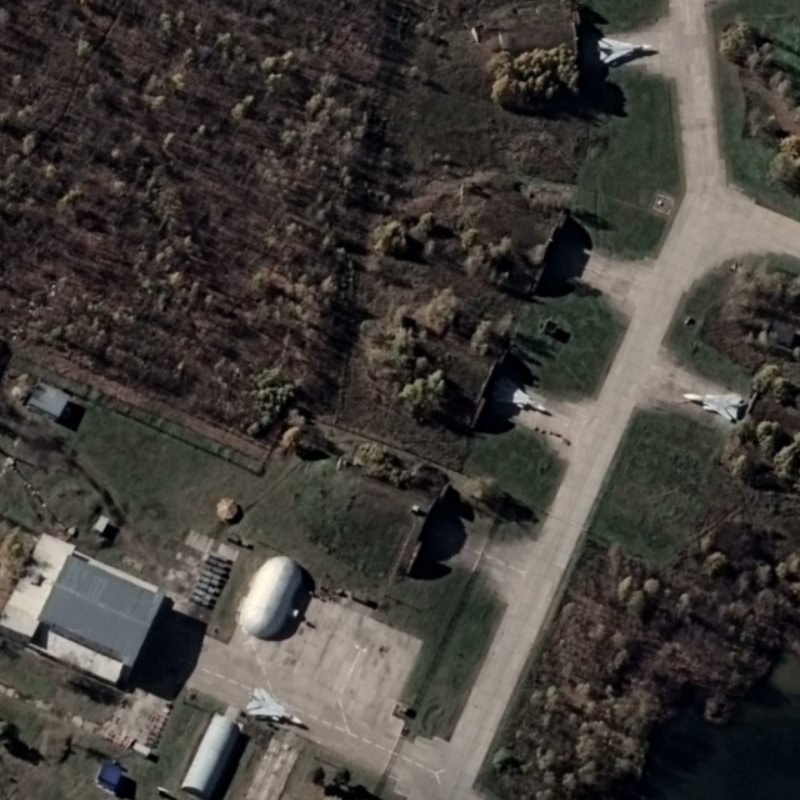A20: (244, 686, 304, 726), (491, 374, 548, 414), (681, 390, 744, 423), (595, 36, 654, 64)
